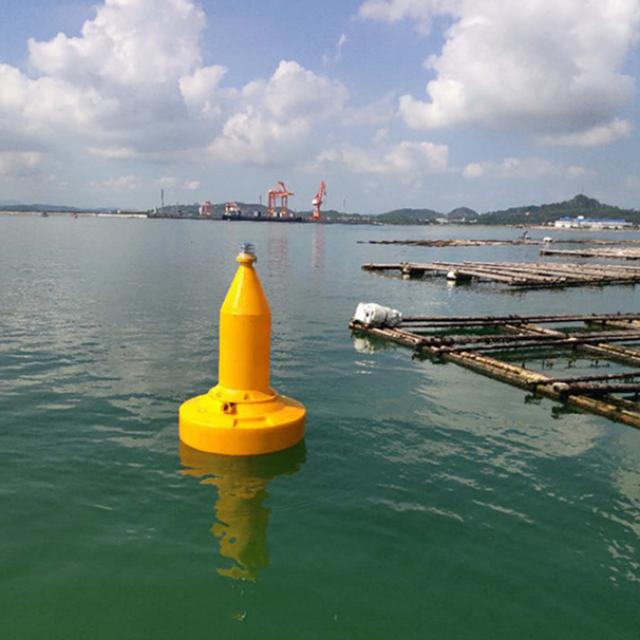buoy: (171, 237, 311, 459)
